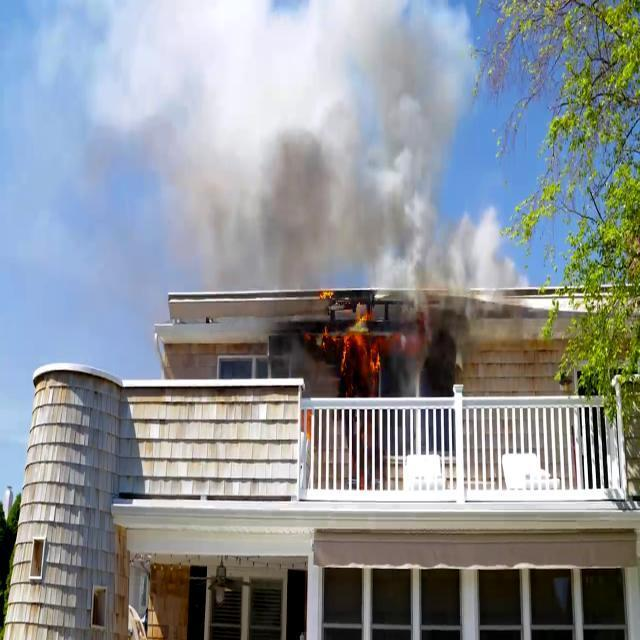Fire: (324, 307, 385, 385)
Smoke: (93, 0, 480, 277), (398, 208, 531, 398)
